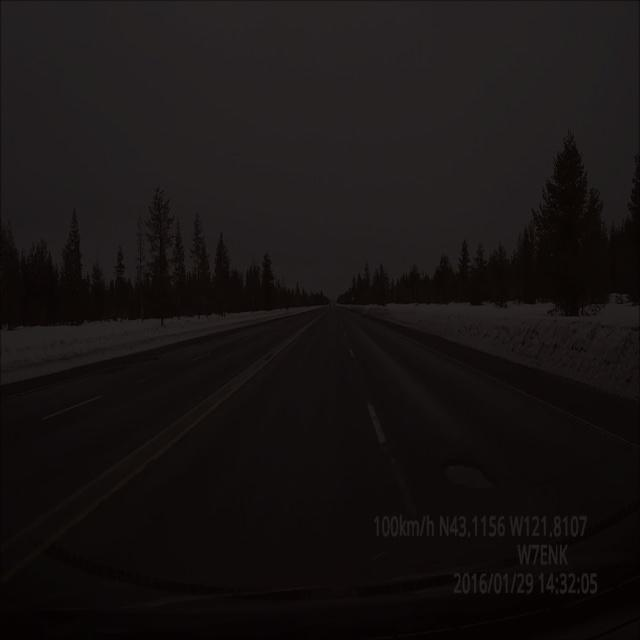Pothole: (432, 452, 502, 500)
